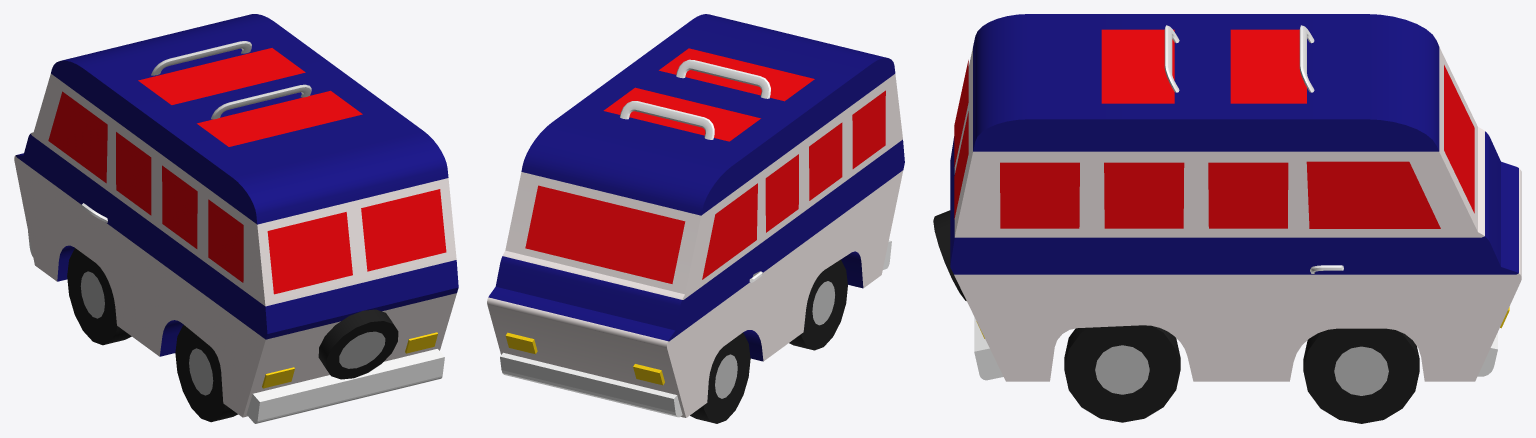
Rendered from норвегия_дляигры.fbx.
3 views of the same model, side by side, from view 1: azimuth 30°, elevation 25°; view 2: azimuth 150°, elevation 25°; view 3: azimuth 270°, elevation 25° (orthographic). The views are drawn at different scales.
Visible parts, largest first — view 1: Cube, Plane.007, Cube.002, Plane.004, Plane.003, Plane, Plane.001, Cylinder.006, Cylinder.001, Cylinder, Plane.002, Cylinder.005 (+3 smaller); view 2: Cube, Plane.005, Plane.007, Cube.001, Plane, Cylinder.001, Cylinder, Plane.001, Plane.002, Cylinder.004, Cylinder.005, Cube.003 (+1 smaller); view 3: Cube, Plane.007, Cylinder, Cylinder.001, Plane.002, Plane, Plane.001, Plane.005, Cube.002, Cylinder.006, Plane.004, Plane.003 (+2 smaller).
Part boxes in pixels (x1,y1,x2,y2): Cube: (14, 14, 458, 417); Plane.007: (116, 132, 243, 282); Cube.002: (246, 349, 444, 423); Plane.004: (361, 189, 446, 271); Plane.003: (267, 212, 352, 294); Plane: (138, 48, 305, 104); Plane.001: (197, 90, 362, 146); Cylinder.006: (318, 309, 398, 379); Cylinder.001: (67, 248, 131, 345); Cylinder: (175, 325, 237, 422); Plane.002: (48, 91, 107, 183); Cylinder.005: (211, 84, 311, 119); Cube: (487, 14, 904, 417); Plane.005: (525, 185, 685, 283); Plane.007: (765, 90, 885, 232); Cube.001: (500, 352, 682, 417); Plane: (603, 87, 760, 141); Cylinder.001: (690, 332, 750, 423); Cylinder: (789, 259, 847, 350); Plane.001: (659, 48, 814, 101); Plane.002: (702, 183, 757, 279); Cylinder.004: (620, 101, 714, 139); Cylinder.005: (676, 59, 770, 98); Cube.003: (505, 332, 537, 354); Cube: (950, 14, 1521, 381); Plane.007: (1000, 162, 1288, 228); Cylinder: (1064, 325, 1180, 422); Cylinder.001: (1303, 328, 1419, 423); Plane.002: (1306, 161, 1440, 228); Plane: (1230, 29, 1306, 103); Plane.001: (1101, 29, 1174, 103); Plane.005: (1444, 65, 1474, 213); Cube.002: (974, 317, 1003, 380); Cylinder.006: (933, 210, 966, 300); Plane.004: (954, 111, 968, 219); Plane.003: (954, 60, 968, 167).
Bounding box in the file's own units: 134 × 172 × 279.
